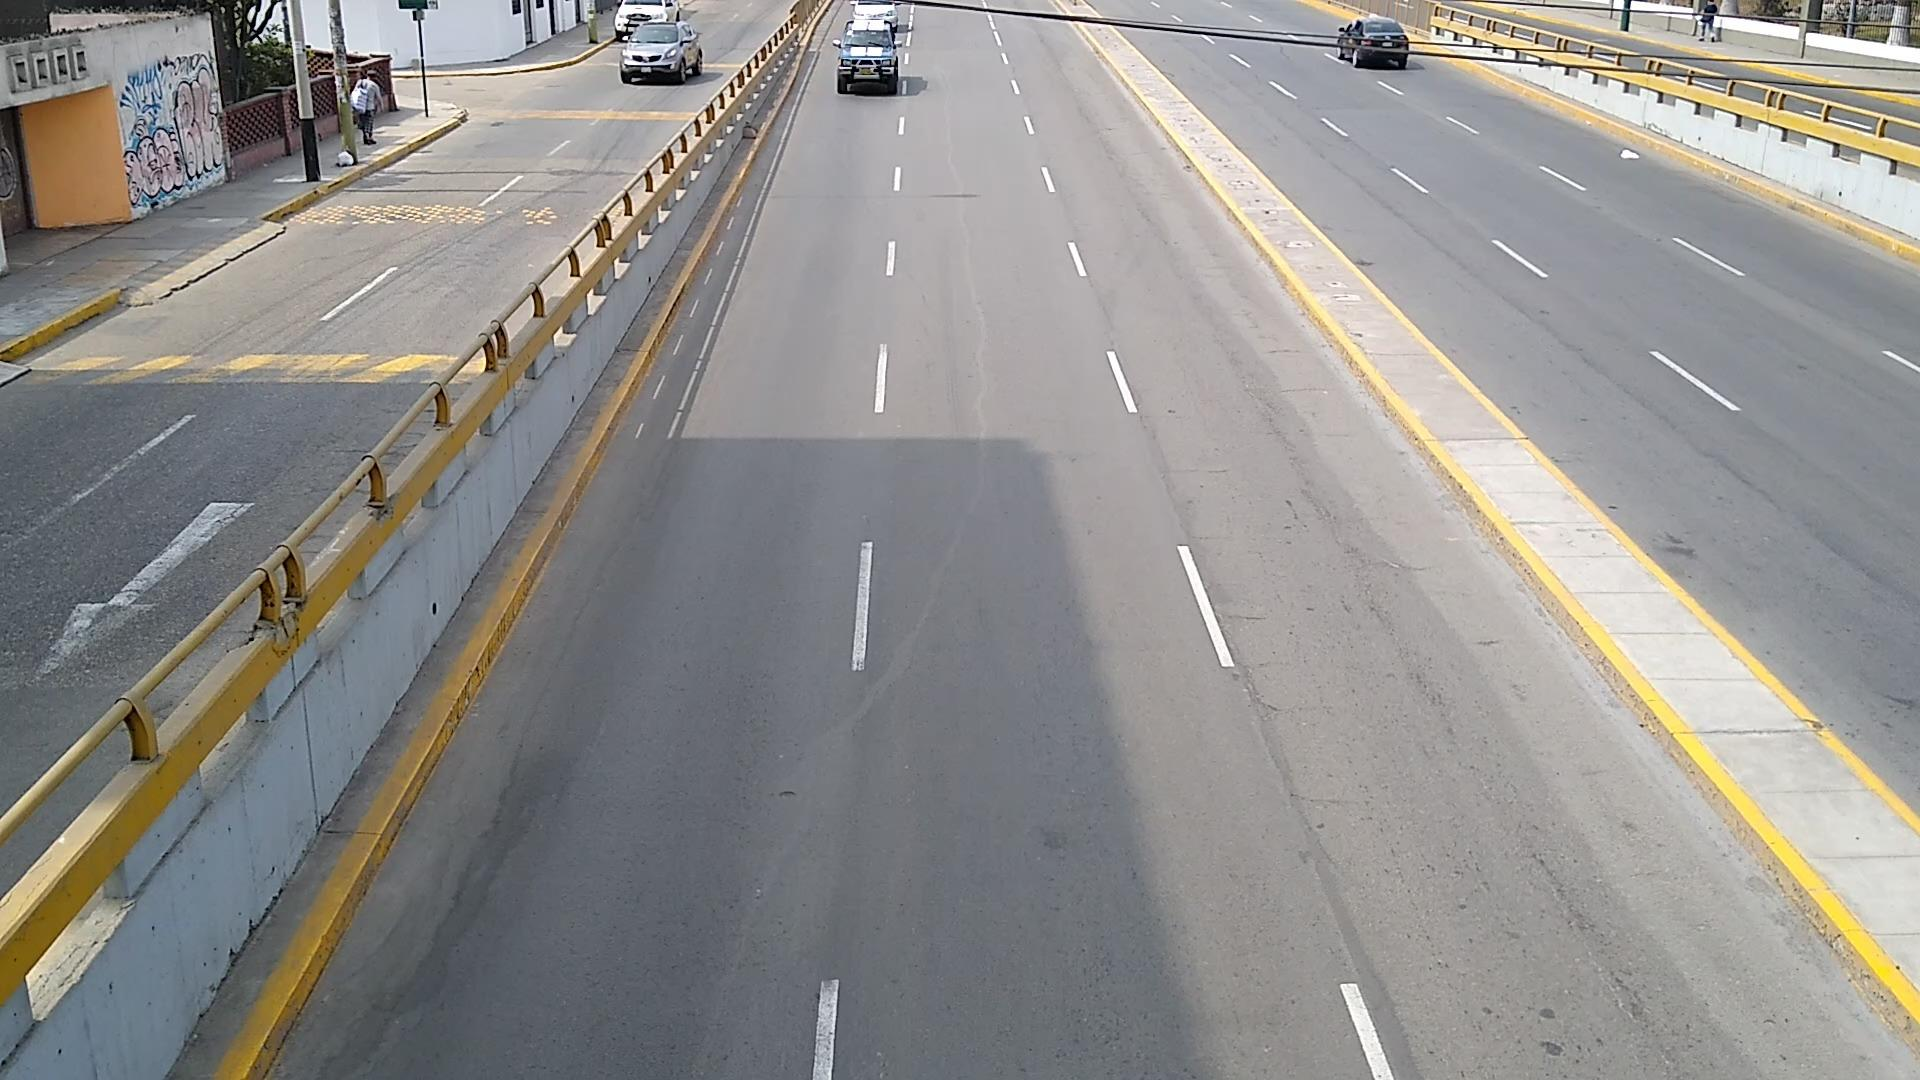car: (618, 18, 705, 80), (618, 22, 705, 83), (836, 22, 899, 94), (1335, 15, 1410, 67), (615, 0, 683, 40)
